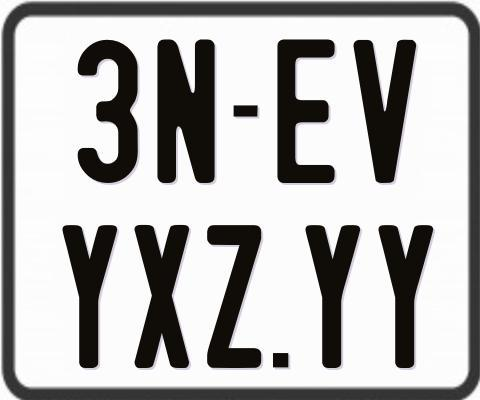3: (75, 37, 141, 181)
E: (276, 39, 340, 186)
N: (155, 39, 213, 182)
V: (354, 37, 421, 182)
X: (134, 222, 192, 370)
Y: (305, 225, 365, 371), (379, 224, 435, 369), (61, 222, 116, 365)
Z: (204, 224, 260, 373)
